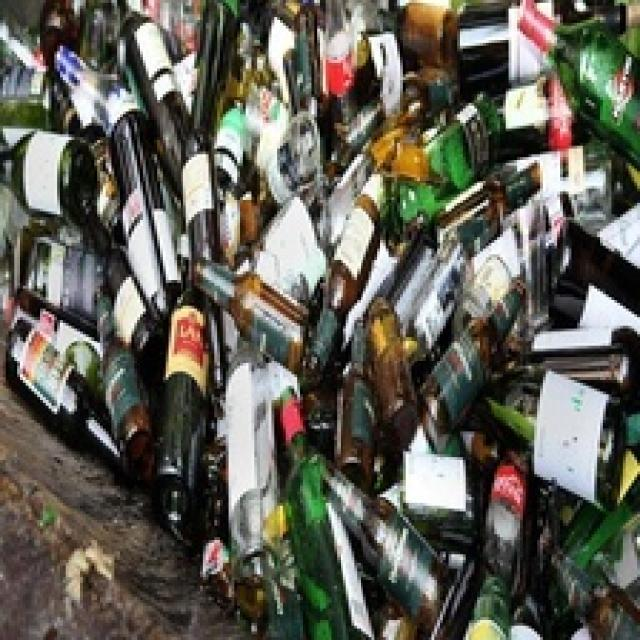Glass: (322, 452, 456, 640), (513, 0, 640, 168), (4, 312, 130, 466), (277, 384, 352, 640), (413, 278, 532, 432), (299, 196, 382, 380), (192, 252, 306, 371)
